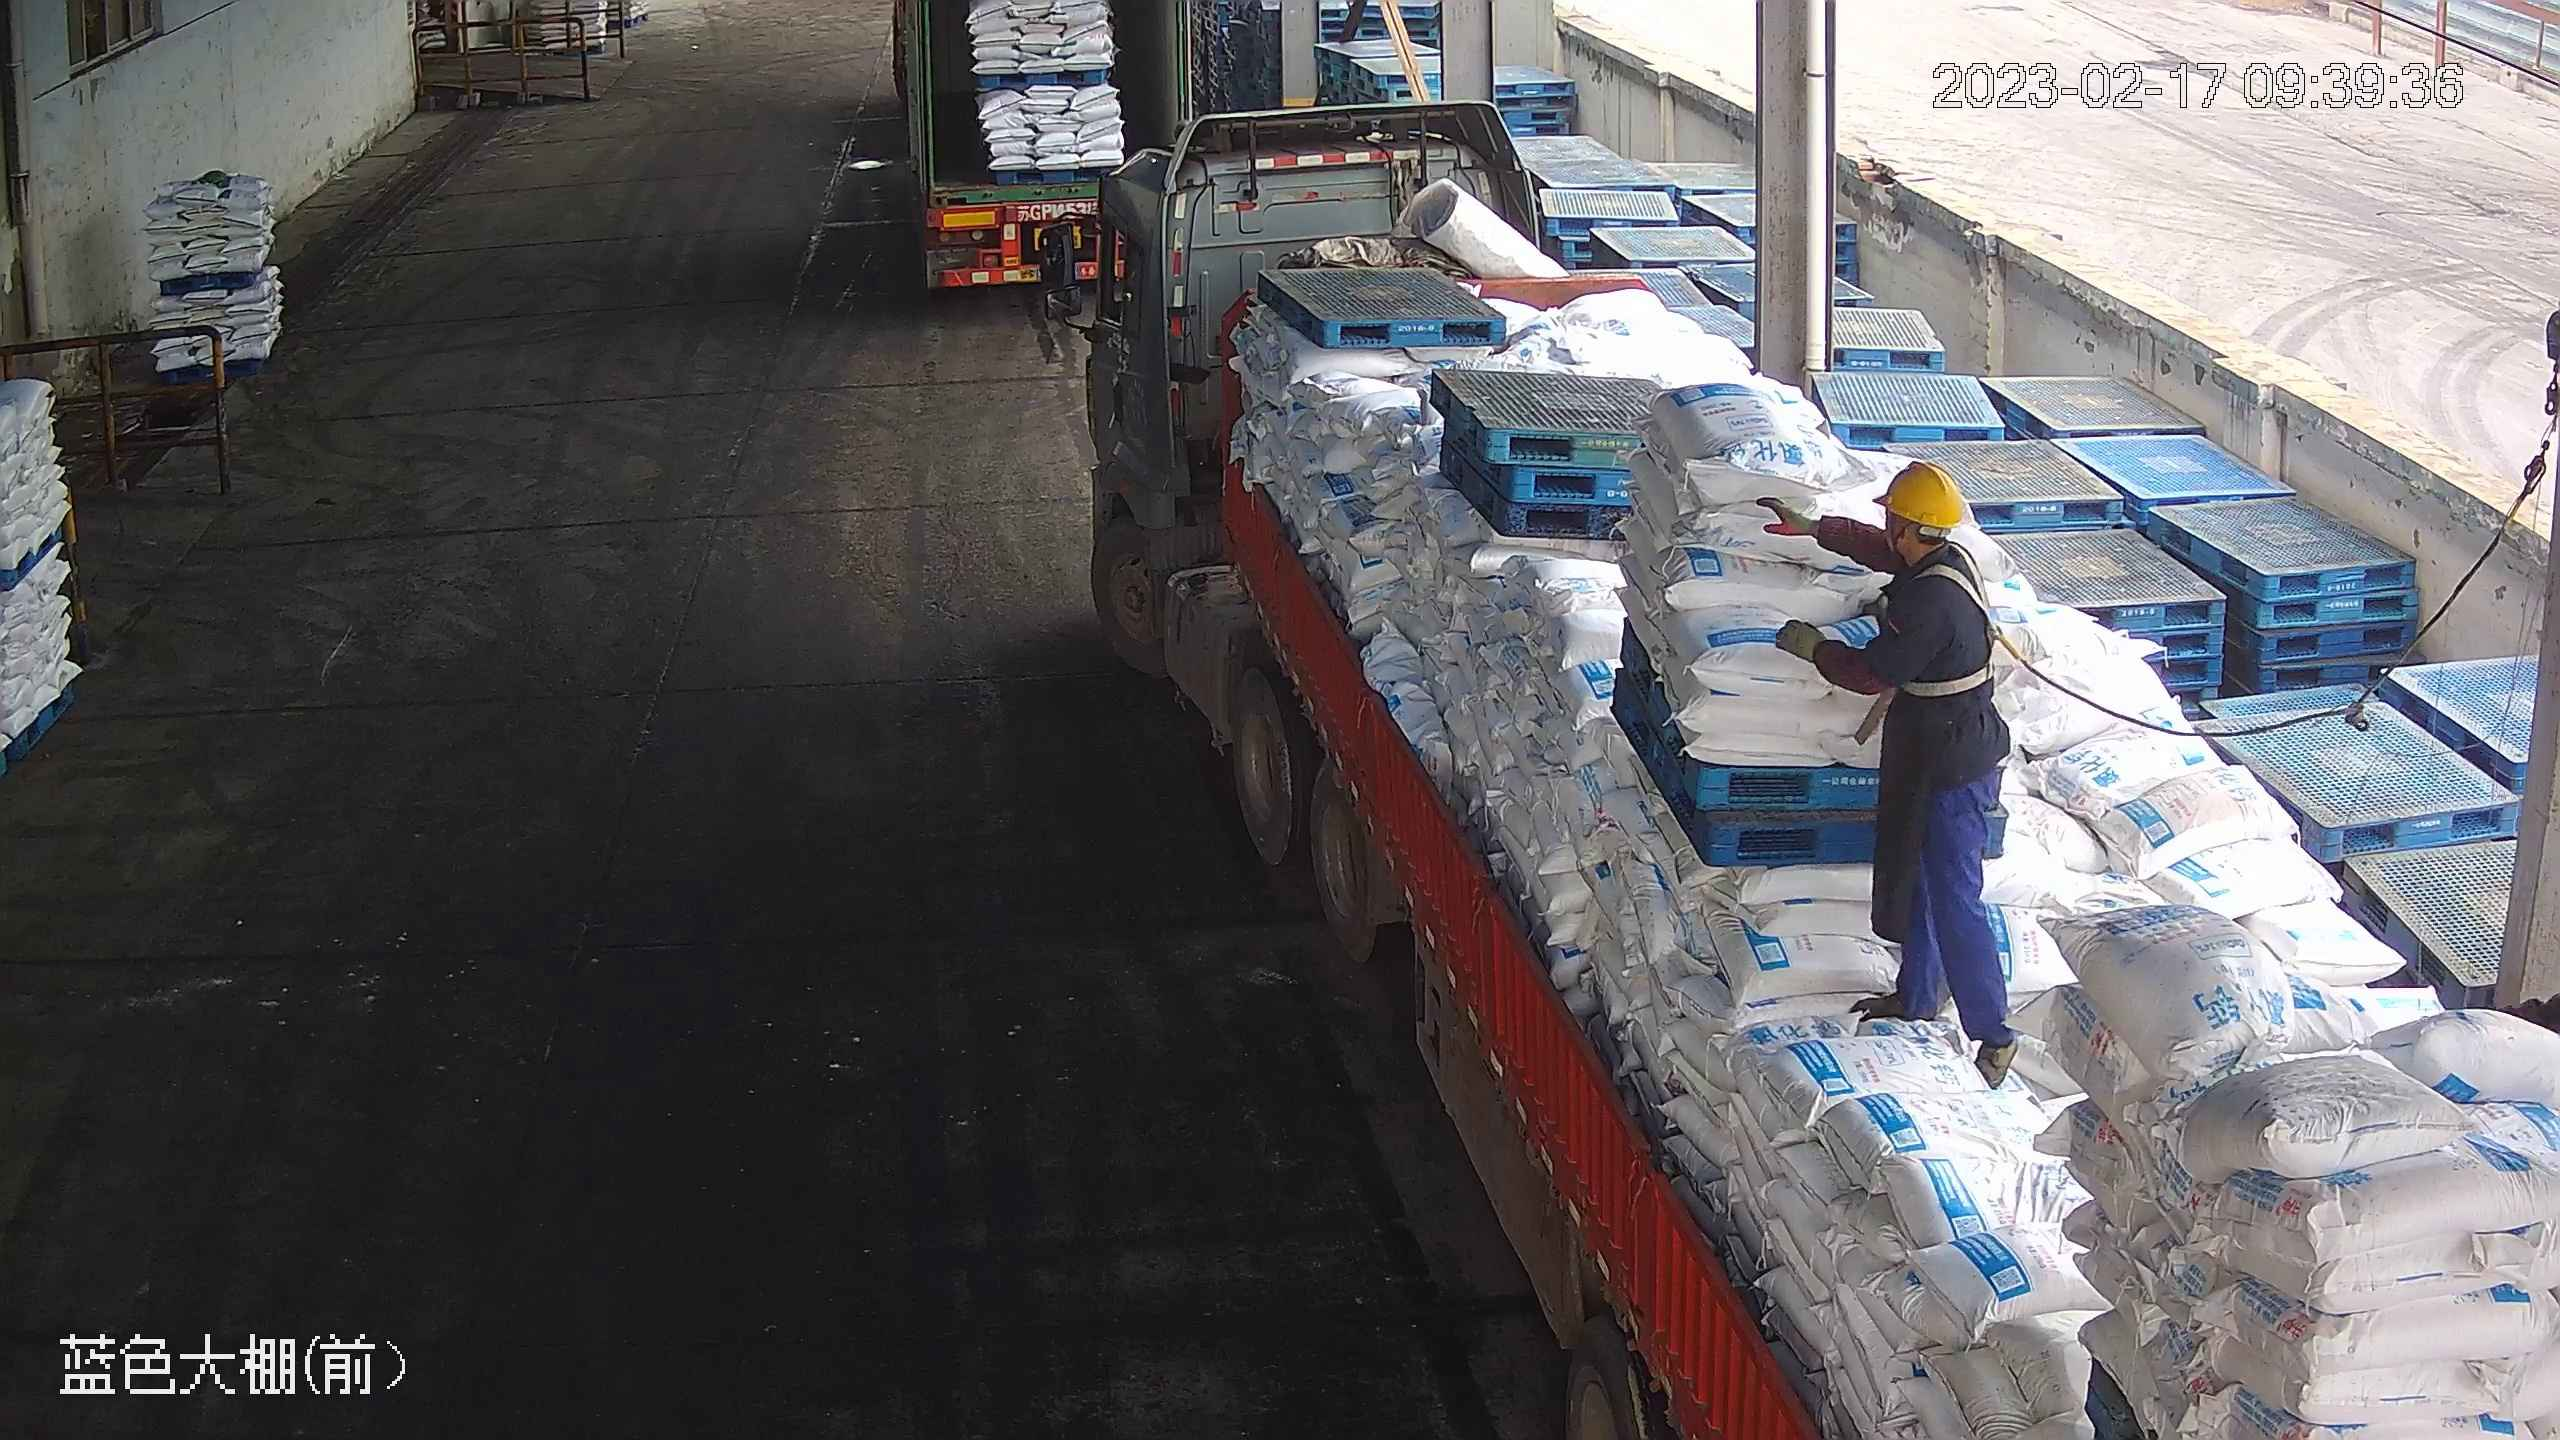belt: (1905, 549, 2020, 700)
head: (1849, 458, 1991, 633)
helmet: (1873, 459, 1969, 530)
people: (1768, 461, 2023, 1081)
truck: (1037, 97, 2554, 1436), (892, 1, 1182, 296)
